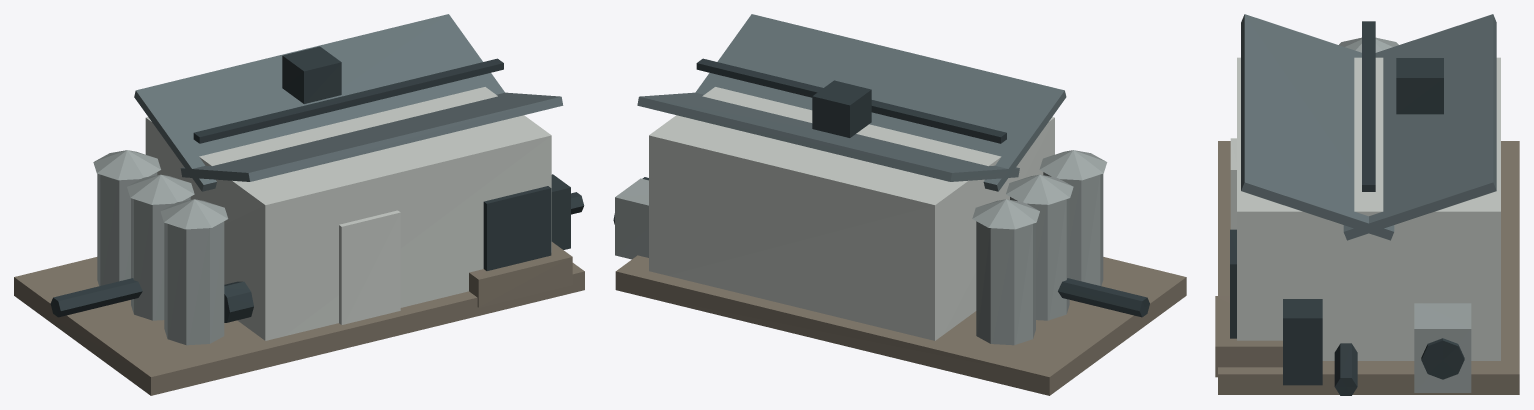
The model's file is industrial-dairy.source.glb.
3 views of the same model, side by side, from view 1: azimuth 30°, elevation 25°; view 2: azimuth 150°, elevation 25°; view 3: azimuth 270°, elevation 25° (orthographic). The views are drawn at different scales.
Visible parts, largest first — view 1: industrial-dairy-modular-rectangular-processing-hall-mesh, industrial-dairy-shallow-galvanized-processing-roof-mesh (×2), industrial-dairy-long-stone-processing-foundation-mesh, industrial-dairy-external-stainless-processing-tank-mesh (×3), industrial-dairy-industrial-dairy-service-door-mesh, industrial-dairy-product-output-bay-mesh, industrial-dairy-processing-tank-cap-mesh (×3), industrial-dairy-processing-hall-ridge-mesh, industrial-dairy-organized-product-loading-dock-mesh, industrial-dairy-roof-vent-unit-mesh, industrial-dairy-milk-intake-manifold-mesh, industrial-dairy-power-control-cabinet-mesh (+1 smaller); view 2: industrial-dairy-modular-rectangular-processing-hall-mesh, industrial-dairy-shallow-galvanized-processing-roof-mesh (×2), industrial-dairy-long-stone-processing-foundation-mesh, industrial-dairy-external-stainless-processing-tank-mesh (×3), industrial-dairy-processing-tank-cap-mesh (×3), industrial-dairy-processing-hall-ridge-mesh, industrial-dairy-roof-vent-unit-mesh, industrial-dairy-external-cooling-unit-mesh, industrial-dairy-milk-intake-manifold-mesh; view 3: industrial-dairy-shallow-galvanized-processing-roof-mesh (×2), industrial-dairy-modular-rectangular-processing-hall-mesh, industrial-dairy-long-stone-processing-foundation-mesh, industrial-dairy-external-cooling-unit-mesh, industrial-dairy-power-control-cabinet-mesh, industrial-dairy-roof-vent-unit-mesh, industrial-dairy-organized-product-loading-dock-mesh, industrial-dairy-processing-hall-ridge-mesh, industrial-dairy-cooling-fan-grille-cue-mesh, industrial-dairy-byproduct-output-pipe-mesh, industrial-dairy-product-output-bay-mesh, industrial-dairy-industrial-dairy-service-door-mesh (+1 smaller).
Part boxes in pixels (x1=…): industrial-dairy-modular-rectangular-processing-hall-mesh: x1=145, y1=87, x2=551, y2=340; industrial-dairy-shallow-galvanized-processing-roof-mesh (×2): x1=134, y1=14, x2=563, y2=191; industrial-dairy-long-stone-processing-foundation-mesh: x1=14, y1=257, x2=584, y2=395; industrial-dairy-external-stainless-processing-tank-mesh (×3): x1=97, y1=172, x2=224, y2=345; industrial-dairy-industrial-dairy-service-door-mesh: x1=339, y1=210, x2=400, y2=324; industrial-dairy-product-output-bay-mesh: x1=483, y1=186, x2=551, y2=270; industrial-dairy-processing-tank-cap-mesh (×3): x1=93, y1=150, x2=228, y2=229; industrial-dairy-processing-hall-ridge-mesh: x1=193, y1=58, x2=503, y2=143; industrial-dairy-organized-product-loading-dock-mesh: x1=469, y1=242, x2=572, y2=307; industrial-dairy-roof-vent-unit-mesh: x1=282, y1=46, x2=341, y2=103; industrial-dairy-milk-intake-manifold-mesh: x1=50, y1=278, x2=142, y2=317; industrial-dairy-power-control-cabinet-mesh: x1=551, y1=174, x2=570, y2=249; industrial-dairy-modular-rectangular-processing-hall-mesh: x1=649, y1=87, x2=1054, y2=340; industrial-dairy-shallow-galvanized-processing-roof-mesh (×2): x1=637, y1=14, x2=1066, y2=191; industrial-dairy-long-stone-processing-foundation-mesh: x1=615, y1=255, x2=1186, y2=395; industrial-dairy-external-stainless-processing-tank-mesh (×3): x1=976, y1=172, x2=1103, y2=345; industrial-dairy-processing-tank-cap-mesh (×3): x1=972, y1=150, x2=1107, y2=229; industrial-dairy-processing-hall-ridge-mesh: x1=696, y1=58, x2=1006, y2=143; industrial-dairy-roof-vent-unit-mesh: x1=812, y1=80, x2=871, y2=137; industrial-dairy-external-cooling-unit-mesh: x1=615, y1=178, x2=648, y2=259; industrial-dairy-milk-intake-manifold-mesh: x1=1058, y1=278, x2=1149, y2=317; industrial-dairy-shallow-galvanized-processing-roof-mesh (×2): x1=1241, y1=14, x2=1496, y2=240; industrial-dairy-modular-rectangular-processing-hall-mesh: x1=1237, y1=57, x2=1500, y2=360; industrial-dairy-long-stone-processing-foundation-mesh: x1=1218, y1=141, x2=1519, y2=394; industrial-dairy-external-cooling-unit-mesh: x1=1414, y1=303, x2=1471, y2=392; industrial-dairy-power-control-cabinet-mesh: x1=1283, y1=299, x2=1322, y2=385; industrial-dairy-roof-vent-unit-mesh: x1=1396, y1=58, x2=1443, y2=114; industrial-dairy-organized-product-loading-dock-mesh: x1=1215, y1=296, x2=1282, y2=377; industrial-dairy-processing-hall-ridge-mesh: x1=1362, y1=21, x2=1375, y2=191; industrial-dairy-cooling-fan-grille-cue-mesh: x1=1421, y1=338, x2=1464, y2=379; industrial-dairy-byproduct-output-pipe-mesh: x1=1334, y1=343, x2=1357, y2=395; industrial-dairy-product-output-bay-mesh: x1=1230, y1=229, x2=1236, y2=338; industrial-dairy-industrial-dairy-service-door-mesh: x1=1230, y1=138, x2=1236, y2=229.
Size of the model in its own units: 5.73 by 2.22 by 2.68.
